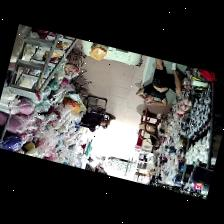person: (136, 58, 181, 105), (100, 114, 114, 127), (94, 164, 98, 171)
